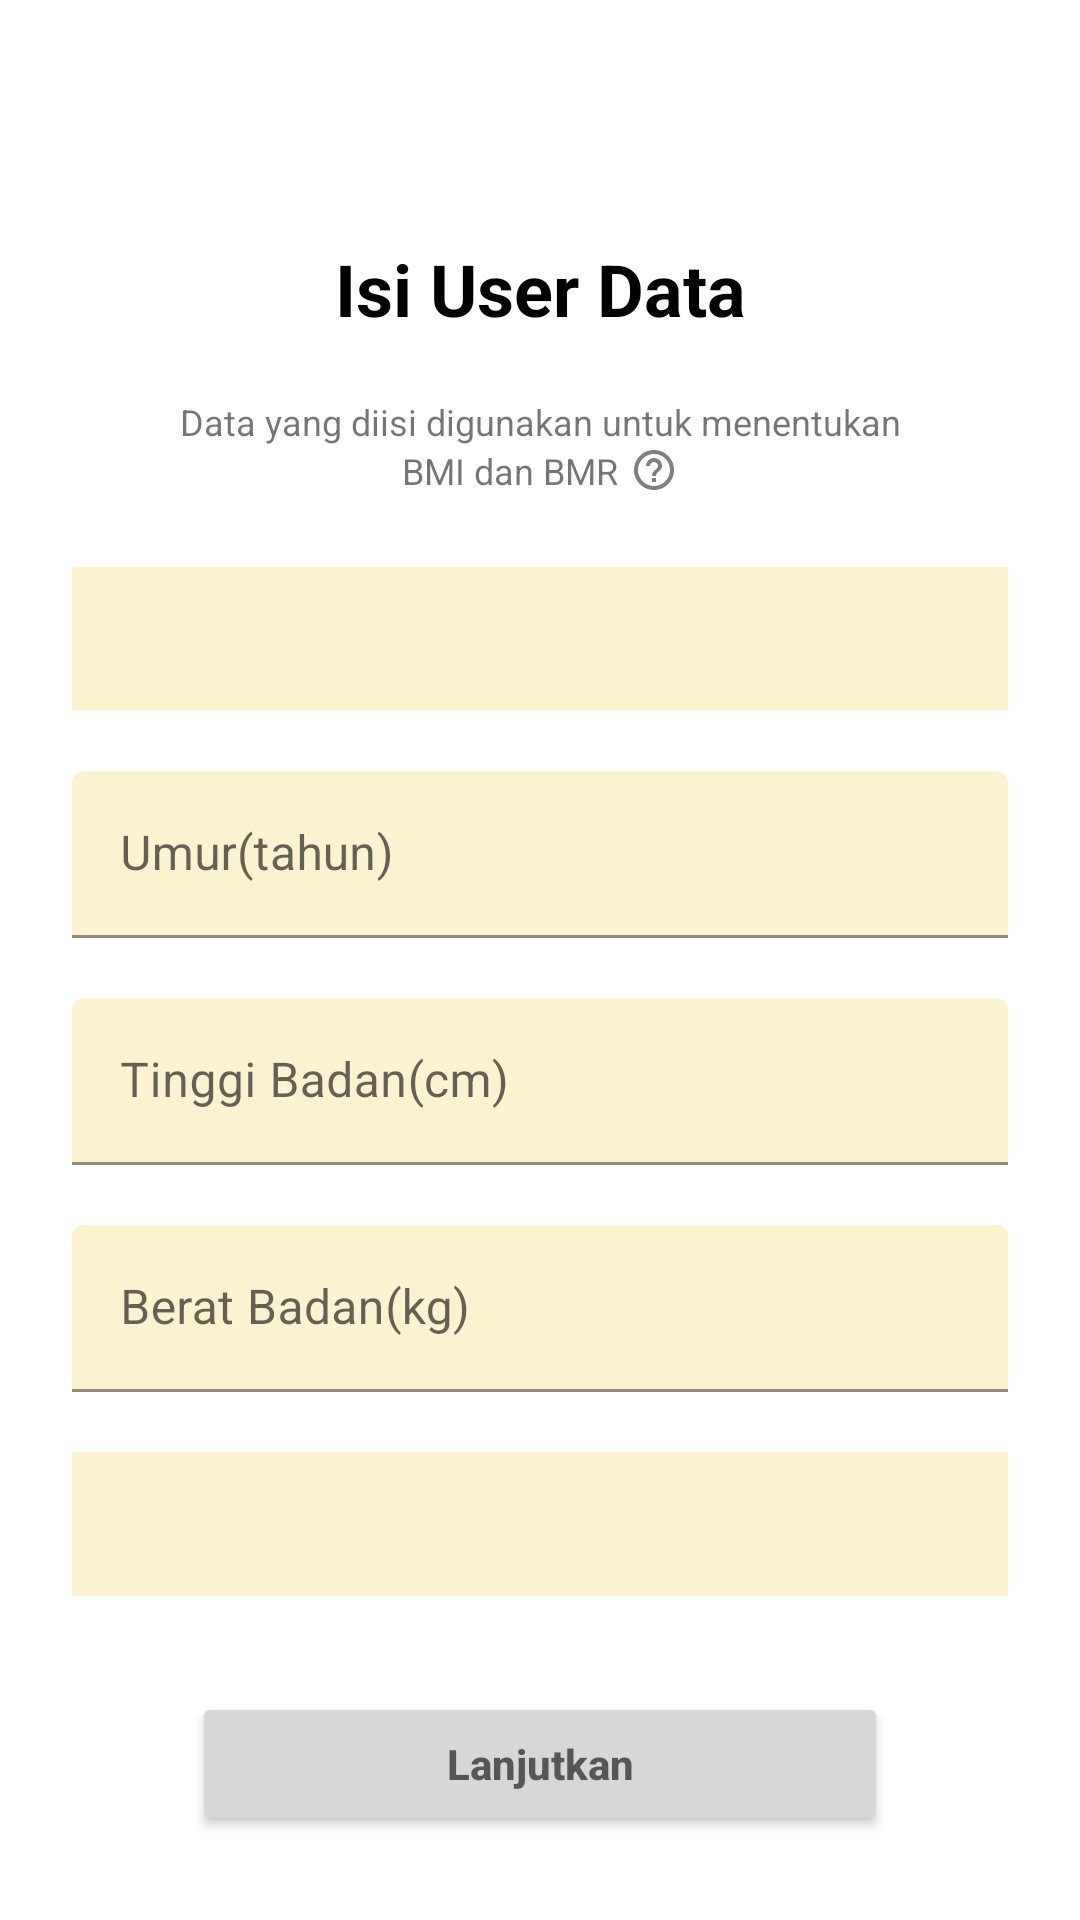

Screen size 1080x1920. Icon name, then its box in pixels as (x1, y1, x2, y2):
help: (634, 450, 674, 490)
